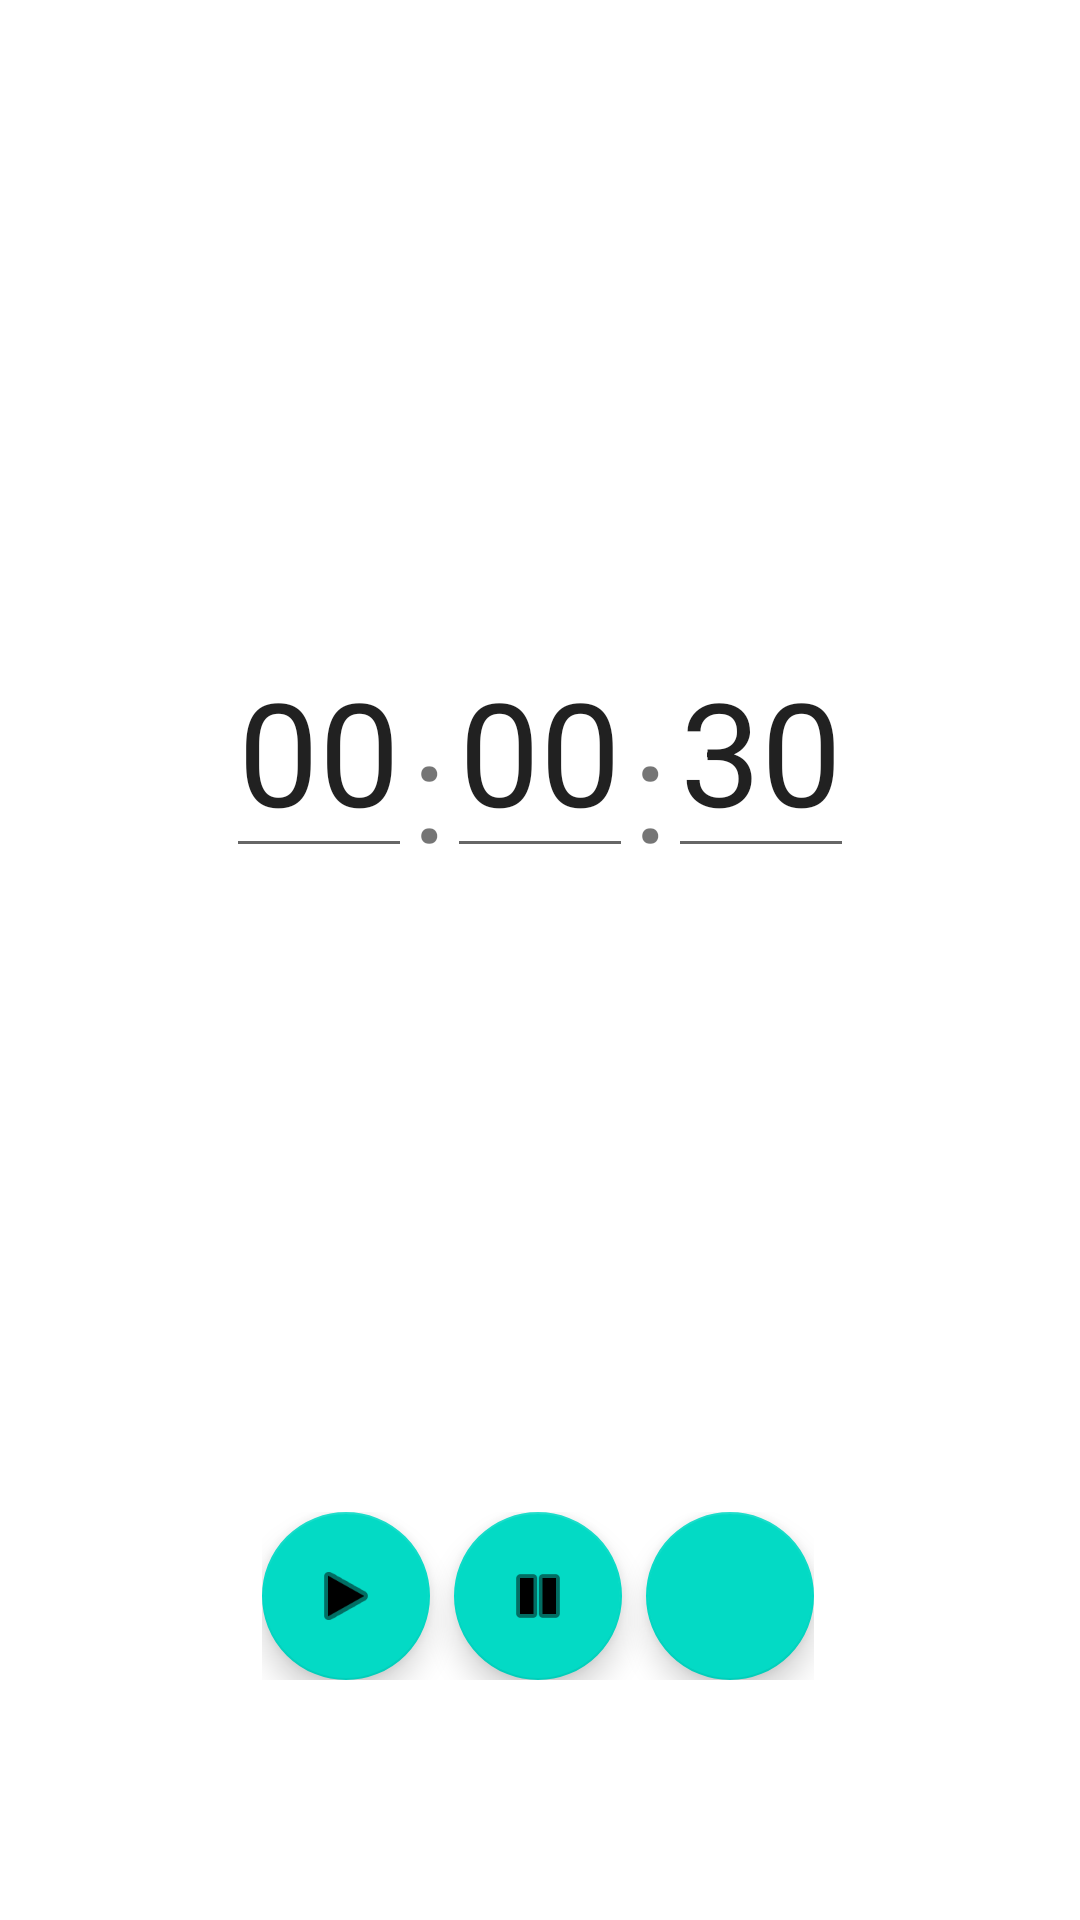

Point at icon controls on the screen. Image size 1080px×1920px, points as [x,y].
pause: [538,1596]
play: [346,1596]
